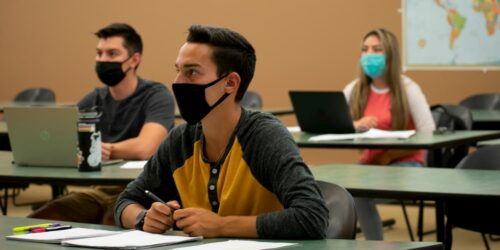with_mask: (174, 53, 203, 109), (97, 42, 121, 75), (361, 38, 385, 66)
